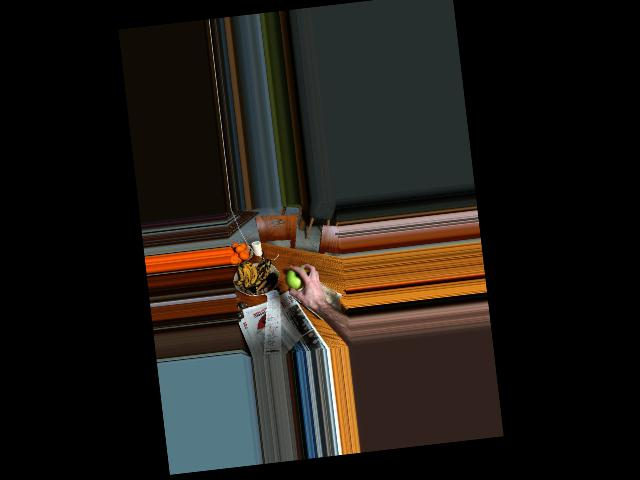apple: (286, 267, 306, 290)
